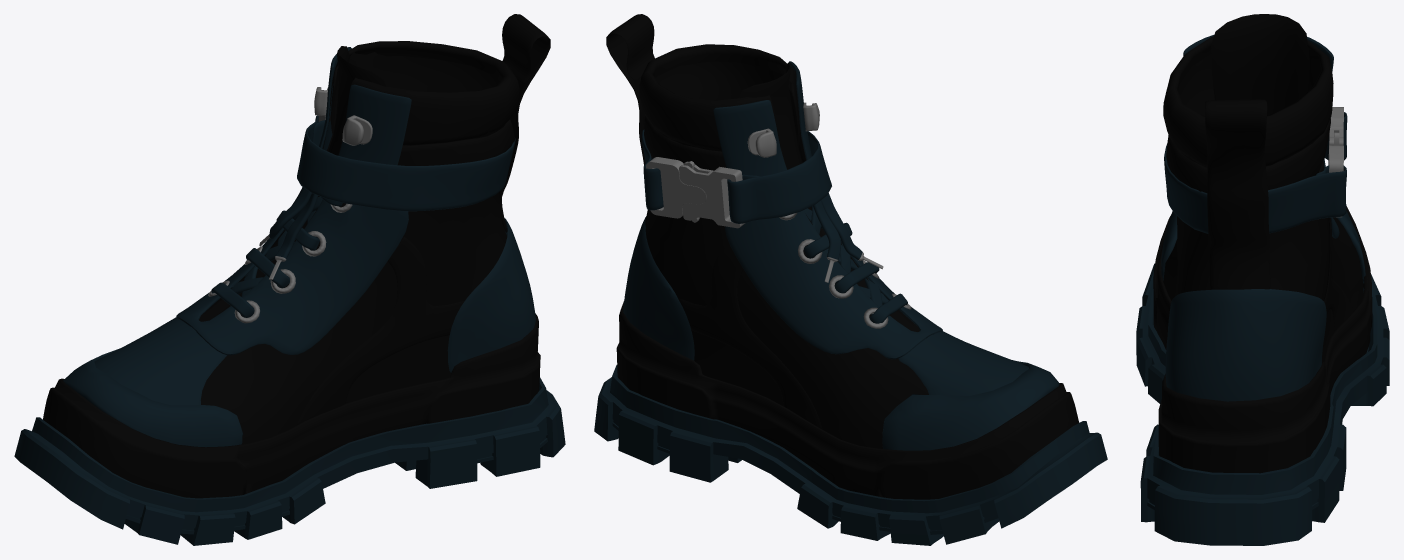
Rendered from biker_boot_model.glb.
The picture shows the model from 3 angles, left to right: view 1: azimuth 30°, elevation 25°; view 2: azimuth 150°, elevation 25°; view 3: azimuth 270°, elevation 25°; orthographic projection. The views are drawn at different scales.
Parts seen in each view (by area): view 1: pd_4, pd_1, pd_2, pd_3_1, pd_3, pd_4_1, rem_1, pd_2_1, pd_5, sh_1, st_1, kl_1 (+1 smaller); view 2: pd_4, pd_1, pd_2, pd_3_1, pd_3, pd_4_1, pd_2_1, rem_1, zak_1, sh_1, pd_5, st_1 (+2 smaller); view 3: pd_1, pd_4, pd_2, pd_3, pd_4_1, st_1, rem_1, pd_5, pd_2_1, zak_1, pd_3_1.
Boxes of the visible parts, x1=… form: pd_4: x1=200, y1=41, x2=519, y2=444; pd_1: x1=14, y1=377, x2=565, y2=545; pd_2: x1=43, y1=313, x2=540, y2=498; pd_3_1: x1=176, y1=47, x2=411, y2=355; pd_3: x1=95, y1=218, x2=535, y2=405; pd_4_1: x1=297, y1=14, x2=550, y2=425; rem_1: x1=297, y1=115, x2=515, y2=211; pd_2_1: x1=63, y1=348, x2=243, y2=447; pd_5: x1=331, y1=52, x2=505, y2=139; sh_1: x1=211, y1=188, x2=342, y2=317; st_1: x1=199, y1=46, x2=386, y2=321; kl_1: x1=314, y1=87, x2=372, y2=145; pd_4: x1=639, y1=44, x2=928, y2=448; pd_1: x1=594, y1=365, x2=1107, y2=545; pd_2: x1=616, y1=301, x2=1079, y2=499; pd_3_1: x1=713, y1=61, x2=942, y2=359; pd_3: x1=623, y1=216, x2=1028, y2=395; pd_4_1: x1=606, y1=14, x2=822, y2=429; pd_2_1: x1=882, y1=360, x2=1059, y2=450; rem_1: x1=642, y1=129, x2=831, y2=223; zak_1: x1=646, y1=157, x2=745, y2=228; sh_1: x1=803, y1=193, x2=907, y2=323; pd_5: x1=655, y1=61, x2=800, y2=151; st_1: x1=739, y1=63, x2=919, y2=331; pd_1: x1=1136, y1=263, x2=1389, y2=545; pd_4: x1=1163, y1=36, x2=1363, y2=362; pd_2: x1=1153, y1=206, x2=1372, y2=473; pd_3: x1=1165, y1=289, x2=1326, y2=401; pd_4_1: x1=1177, y1=99, x2=1353, y2=330; st_1: x1=1211, y1=14, x2=1309, y2=115; rem_1: x1=1164, y1=112, x2=1347, y2=233; pd_5: x1=1172, y1=47, x2=1321, y2=164; pd_2_1: x1=1161, y1=211, x2=1365, y2=283; zak_1: x1=1328, y1=107, x2=1343, y2=217; pd_3_1: x1=1183, y1=35, x2=1339, y2=238.
Bounding box in the file's own units: 4.03 × 3.12 × 1.63.
